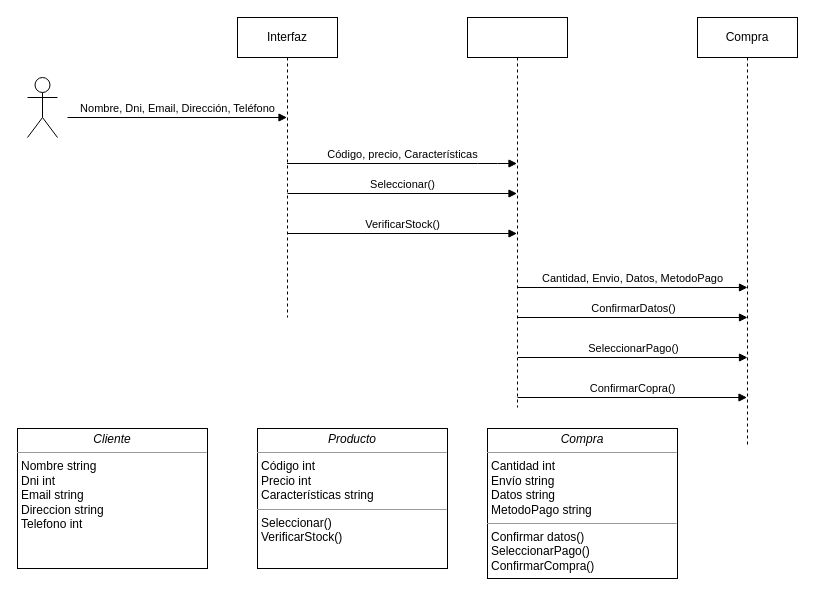
This 815x596 diagram has some shape labels left out. The shapes that lost their labels are listed below. From the top down, each one's centre as x and y in pixels, then its label:
point (42, 107): Cliente
point (517, 212): Producto
